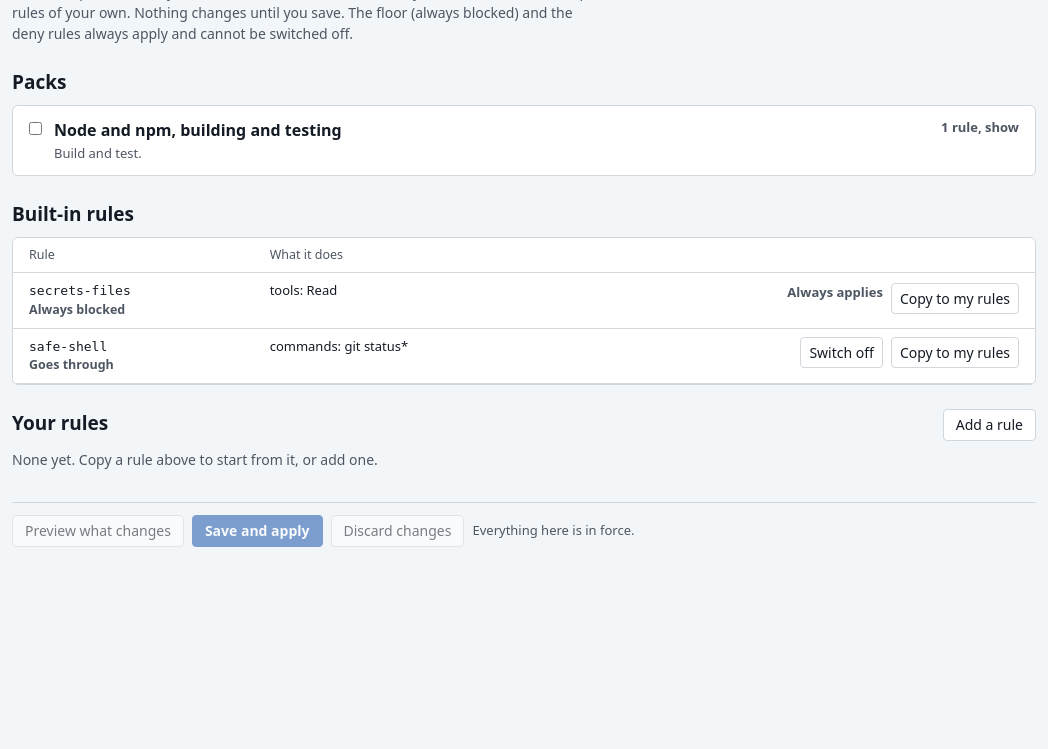
the rule library › copies a rule into your own rules under a my- name, and you can keep it
Click the button "Copy to my rules" in the row of "safe-shell". click: [955, 352]
box: [891,336,1019,368]
(page scrolled)
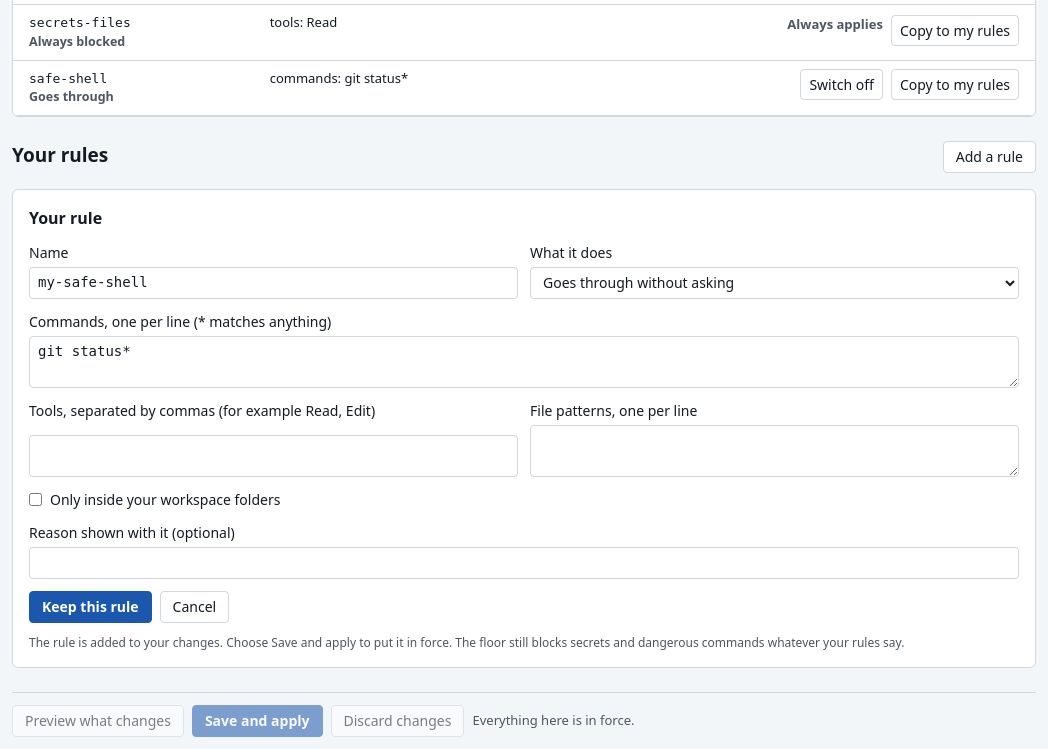
Expected: the field labelled "Name" holds "my-safe-shell", [29,267,518,299]
Click the button "Keep this rule". click: [90, 607]
box: [29,591,152,623]
(page scrolled)
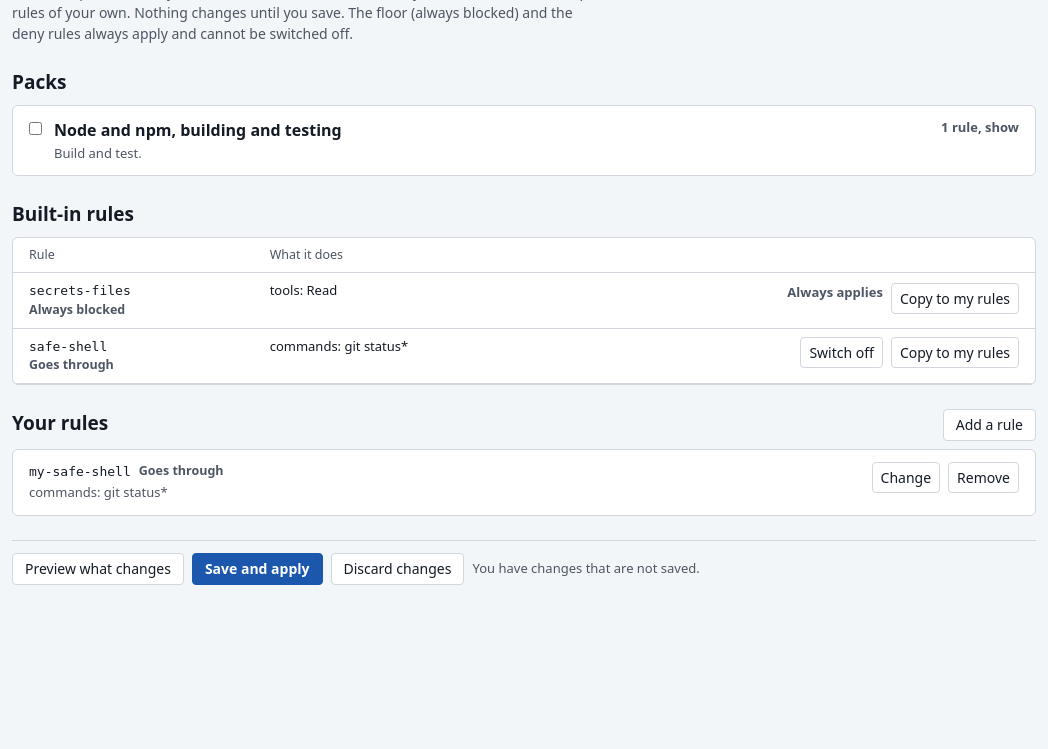
Expected: the text "my-safe-shell" is shown, [29,462,131,481]
Click the button "Preview what changes". click: [98, 569]
box: [12,553,184,585]
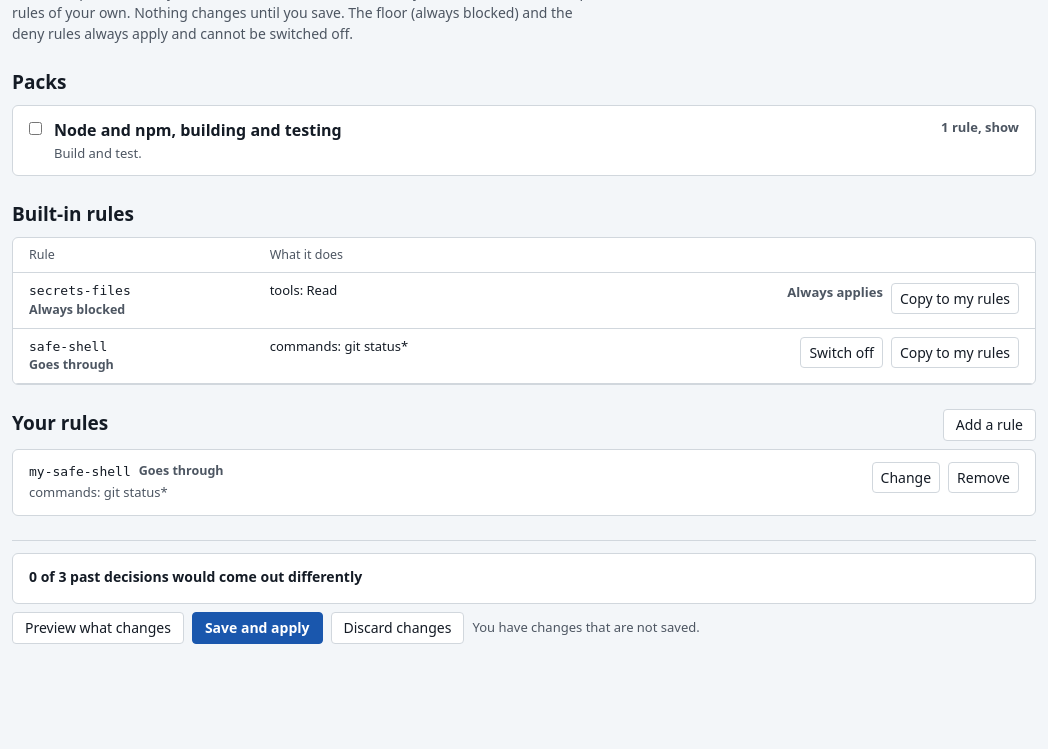
Expected: the text "0 of 3 past decisions would come out differently" is shown, [29,567,362,586]
